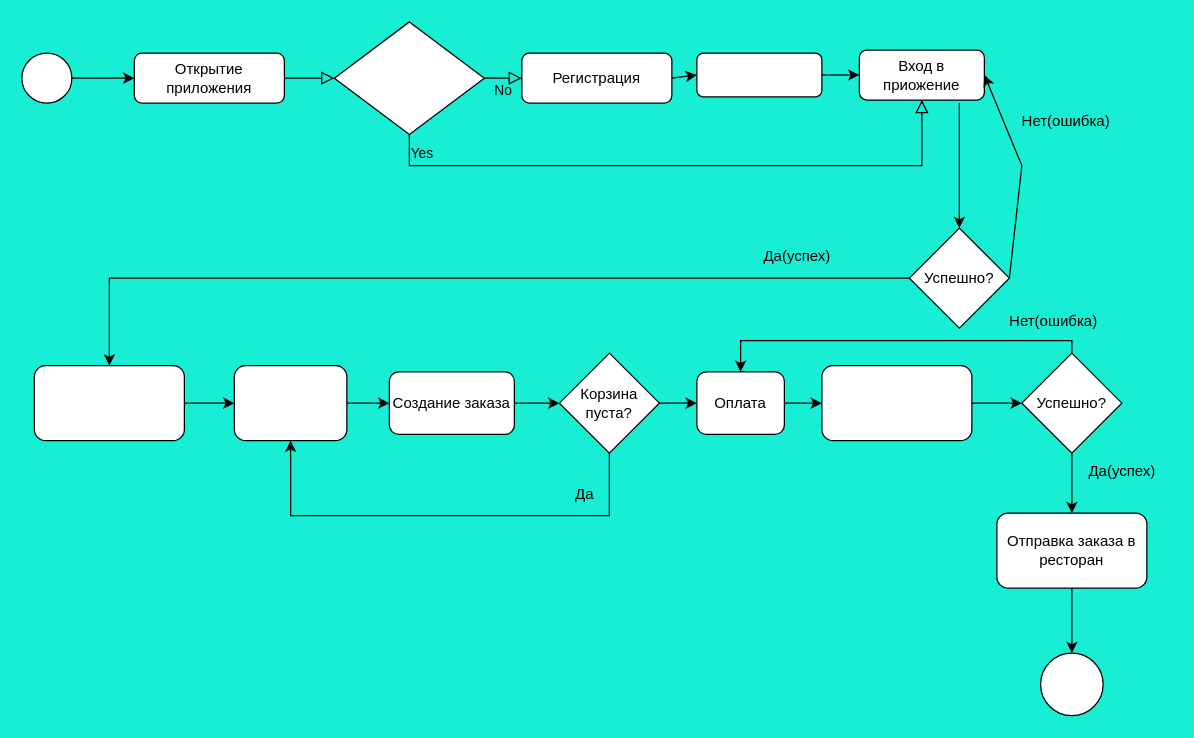
The diagram is 1194 pixels wide and 738 high, and some of its shapes have lost their labels. The shapes that lost their labels are listed below. From the top down, each one's centre as x and y in pixels, then its label:
At (408,77): "Пользователь зарегистрирован".
At (759,74): "Ввод данных".
At (108,402): "Выбор ресторана".
At (290,402): "Выбор меню".
At (896,402): "Подтверждение".
